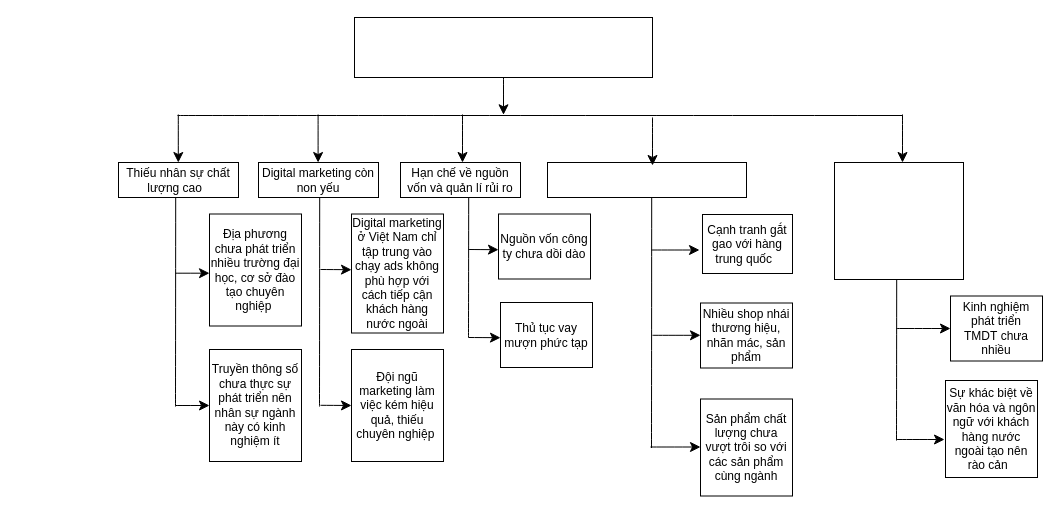
Some shapes in this 1060 by 514 pixel diagram are drawn without their labels. The centre of each missing label's shape, as x and y in pixels:
Khó khăn trong việc tiếp cận khách hàng và tìm kiếm khách hàng tiềm năng: (x=899, y=221)
Môi trường cạnh tranh cao, nhiều kênh cạnh tranh không lành mạnh: (x=646, y=180)
Phát triển branding công ty TNHH Phú Mạnh trên sàn thương mại điện tử Shopee: (x=503, y=47)
